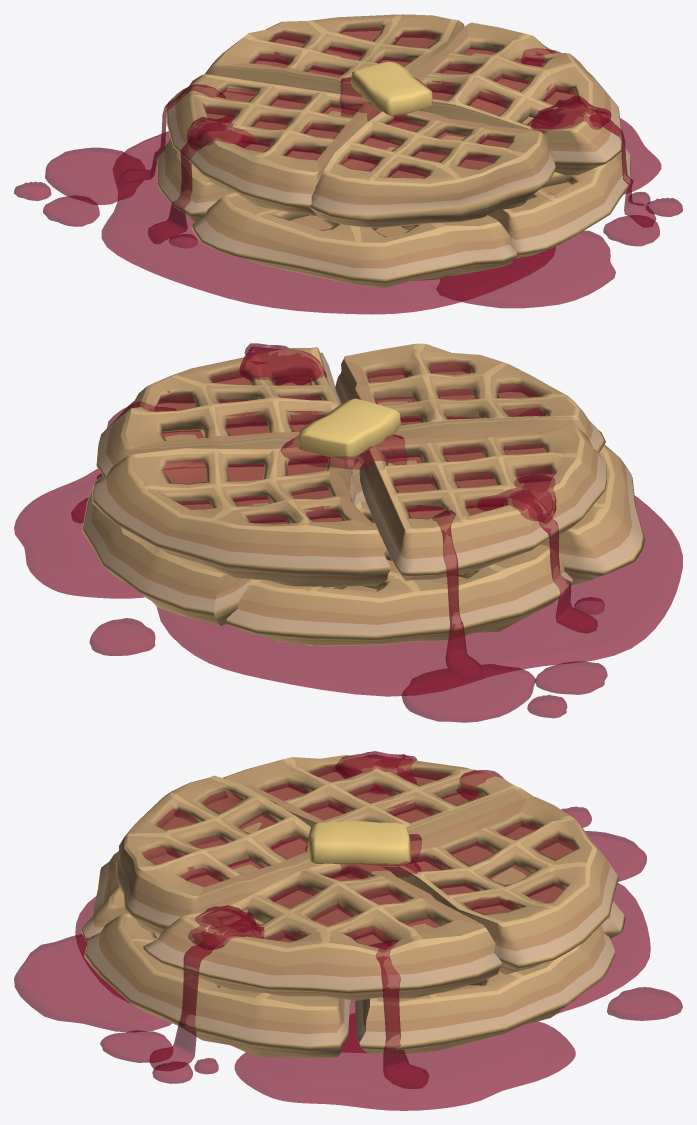
File: waffle1.glb
3 views of the same model, one above another, from view 1: azimuth 30°, elevation 25°; view 2: azimuth 150°, elevation 25°; view 3: azimuth 270°, elevation 25° (orthographic). The views are drawn at different scales.
Parts seen in each view (by area): view 1: polySurface13, pCylinder7, polySurface15, polySurface12, polySurface6, polySurface11, pCylinder15, polySurface8, pCylinder8, pCube17, polySurface9, pCylinder18 (+10 smaller); view 2: polySurface11, pCylinder7, polySurface15, polySurface9, polySurface12, polySurface13, polySurface7, pCylinder14, polySurface6, pCylinder8, pCube17, pCylinder18 (+8 smaller); view 3: polySurface12, polySurface11, polySurface13, pCylinder14, polySurface8, polySurface15, polySurface7, pCylinder15, pCylinder7, pCube17, polySurface17, polySurface18 (+10 smaller).
Boxes of the visible parts, bbox=[...] form: polySurface13: bbox=[309, 110, 555, 228]; pCylinder7: bbox=[101, 131, 555, 314]; polySurface15: bbox=[166, 74, 378, 215]; polySurface12: bbox=[414, 22, 622, 175]; polySurface6: bbox=[191, 192, 517, 288]; polySurface11: bbox=[205, 14, 464, 113]; pCylinder15: bbox=[436, 230, 615, 308]; polySurface8: bbox=[488, 144, 630, 258]; pCylinder8: bbox=[45, 147, 144, 204]; pCube17: bbox=[351, 61, 432, 115]; polySurface9: bbox=[156, 138, 235, 222]; pCylinder18: bbox=[531, 95, 611, 133]; polySurface11: bbox=[92, 447, 390, 587]; pCylinder7: bbox=[157, 496, 682, 696]; polySurface15: bbox=[359, 426, 606, 580]; polySurface9: bbox=[226, 501, 573, 646]; polySurface12: bbox=[96, 347, 354, 476]; polySurface13: bbox=[335, 343, 605, 464]; polySurface7: bbox=[82, 475, 253, 626]; pCylinder14: bbox=[14, 469, 144, 598]; polySurface6: bbox=[540, 444, 644, 585]; pCylinder8: bbox=[401, 664, 535, 722]; pCube17: bbox=[298, 398, 400, 459]; pCylinder18: bbox=[239, 343, 326, 385]; polySurface12: bbox=[143, 863, 501, 1000]; polySurface11: bbox=[381, 796, 618, 974]; polySurface13: bbox=[116, 775, 318, 934]; pCylinder14: bbox=[234, 1013, 575, 1110]; polySurface8: bbox=[84, 914, 351, 1058]; polySurface15: bbox=[223, 755, 532, 843]; polySurface7: bbox=[355, 925, 615, 1054]; pCylinder15: bbox=[14, 934, 171, 1032]; pCylinder7: bbox=[75, 883, 650, 1052]; pCube17: bbox=[307, 820, 410, 866]; polySurface17: bbox=[369, 940, 428, 1088]; polySurface18: bbox=[150, 931, 217, 1070].
Bounding box in the file's own units: 2.96 × 0.6537 × 2.81.
